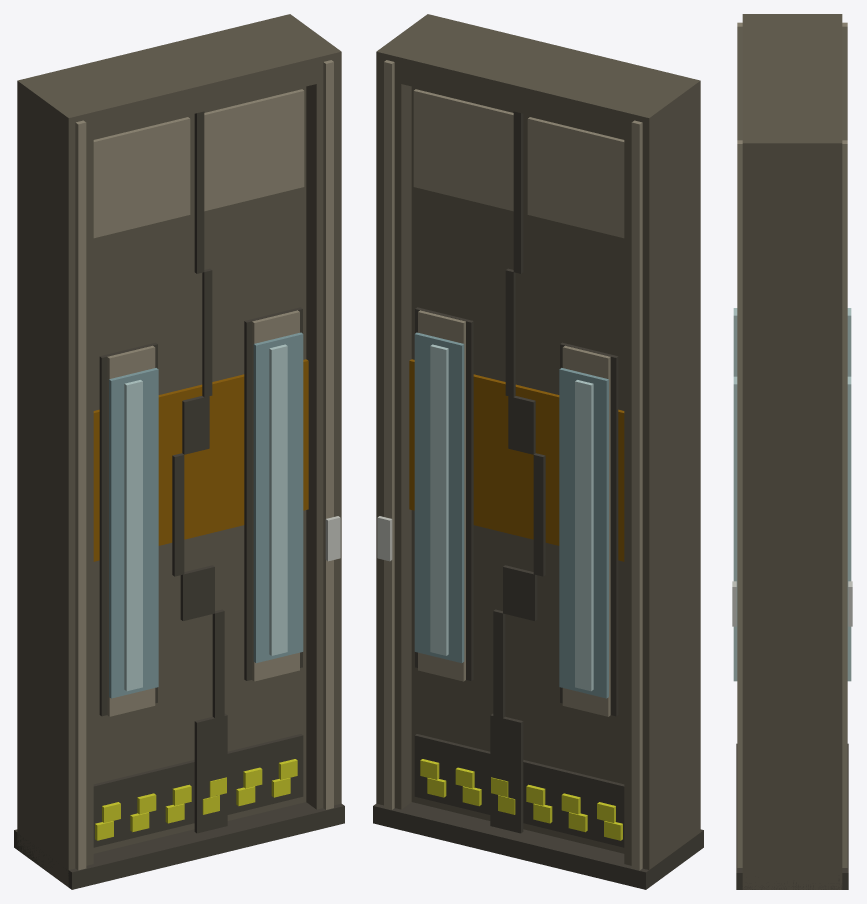
File: CMU3DSingleEngineerGovforDoorGlass.glb
3 views of the same model, side by side, from view 1: azimuth 30°, elevation 25°; view 2: azimuth 150°, elevation 25°; view 3: azimuth 270°, elevation 25° (orthographic). The views are drawn at different scales.
Parts seen in each view (by area): view 1: door jamb (×2), closed leaf body, glass port (×2), header, upper inset band (×2), jamb raised edge (×2), leaf meeting seam (×7), department color band, glass reflection (×2), lower hazard backing, threshold, window dark surround (×2) (+2 smaller); view 2: door jamb (×2), closed leaf body, glass port back (×2), header, upper inset band back (×2), jamb raised edge (×2), leaf meeting seam back (×7), department color band back, glass reflection back (×2), threshold, lower hazard backing back, window dark surround back (×2) (+2 smaller); view 3: door jamb (×2), header, jamb raised edge (×4), glass reflection (×2), glass reflection back (×2), threshold.
Boxes of the visible parts, left/top/right/bottom form: door jamb (×2): left=17, top=14, right=341, bottom=887; closed leaf body: left=93, top=86, right=306, bottom=853; glass port (×2): left=109, top=332, right=303, bottom=698; header: left=17, top=14, right=341, bottom=144; upper inset band (×2): left=93, top=89, right=304, bottom=238; jamb raised edge (×2): left=75, top=60, right=333, bottom=870; leaf meeting seam (×7): left=172, top=111, right=227, bottom=833; department color band: left=93, top=359, right=308, bottom=561; glass reflection (×2): left=124, top=344, right=287, bottom=691; lower hazard backing: left=93, top=734, right=303, bottom=847; threshold: left=14, top=802, right=344, bottom=889; window dark surround (×2): left=99, top=307, right=302, bottom=716; door jamb (×2): left=376, top=14, right=700, bottom=869; closed leaf body: left=411, top=86, right=624, bottom=853; glass port back (×2): left=414, top=332, right=608, bottom=698; header: left=376, top=14, right=700, bottom=144; upper inset band back (×2): left=413, top=89, right=624, bottom=238; jamb raised edge (×2): left=384, top=60, right=642, bottom=870; leaf meeting seam back (×7): left=490, top=111, right=545, bottom=833; department color band back: left=409, top=359, right=624, bottom=561; glass reflection back (×2): left=430, top=344, right=593, bottom=691; threshold: left=373, top=802, right=703, bottom=889; lower hazard backing back: left=414, top=734, right=624, bottom=847; window dark surround back (×2): left=415, top=307, right=618, bottom=716; door jamb (×2): left=742, top=14, right=842, bottom=889; header: left=742, top=14, right=842, bottom=168; jamb raised edge (×4): left=737, top=22, right=847, bottom=867; glass reflection (×2): left=733, top=308, right=737, bottom=681; glass reflection back (×2): left=847, top=308, right=851, bottom=681; threshold: left=736, top=743, right=848, bottom=889.
Bounding box in the file's own units: 0.98 × 2.64 × 0.386.
